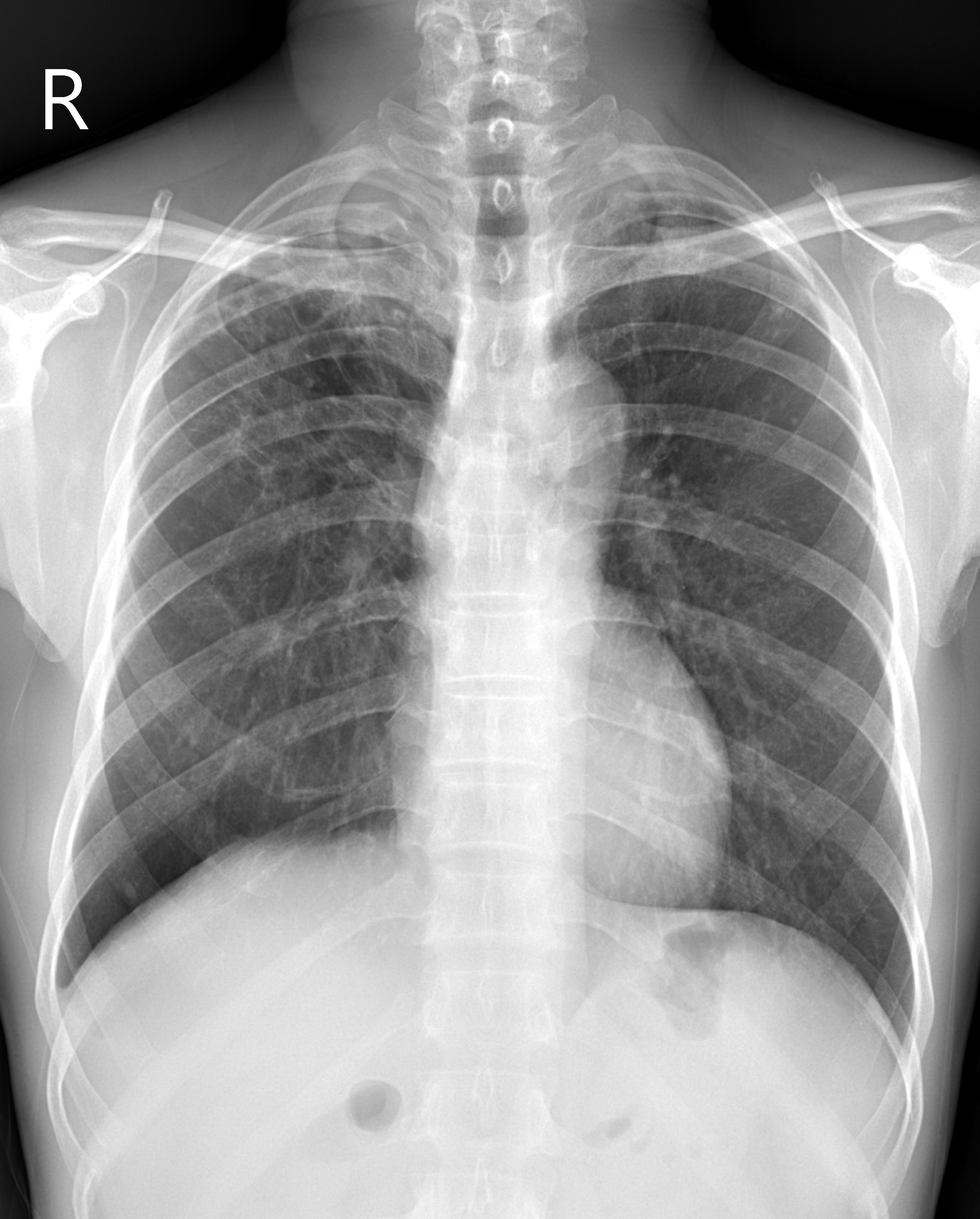Pleural thickening: (649, 164, 760, 233), (44, 953, 80, 1020)
Pulmonary fibrosis: (204, 218, 411, 456)
